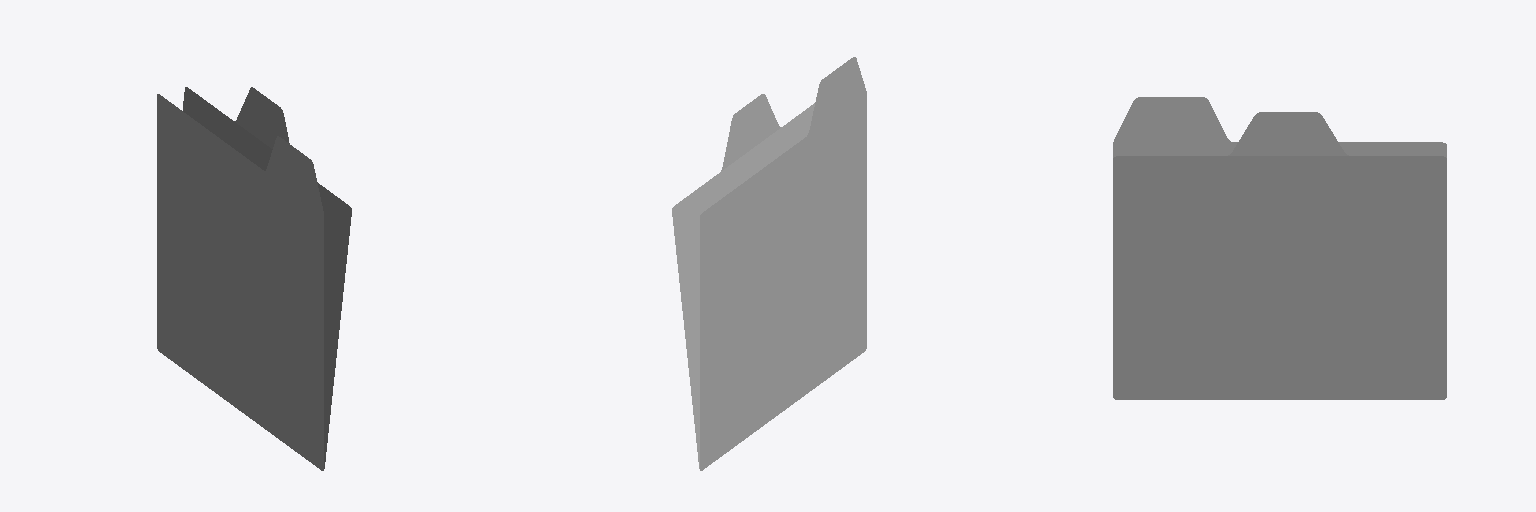
File: Folder.obj
3 views of the same model, side by side, from view 1: azimuth 30°, elevation 25°; view 2: azimuth 150°, elevation 25°; view 3: azimuth 270°, elevation 25° (orthographic).
Parts seen in each view (by area): view 1: Plane.001; view 2: Plane.001; view 3: Plane.001.
Boxes of the visible parts, x1,y1,x2,y2 form: Plane.001: [157, 87, 351, 470]; Plane.001: [672, 57, 866, 470]; Plane.001: [1113, 97, 1446, 399].
Bounding box in the file's own units: 0.2118 × 2 × 2.